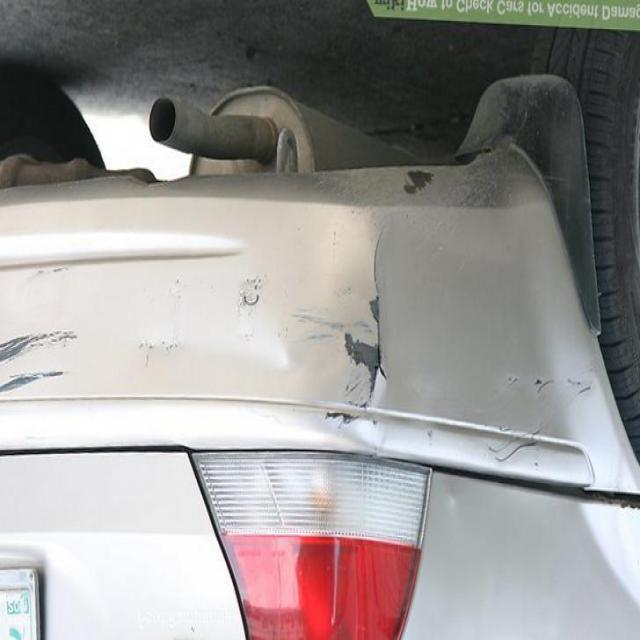scratch: (298, 232, 396, 438), (0, 291, 85, 398), (389, 167, 442, 206)
